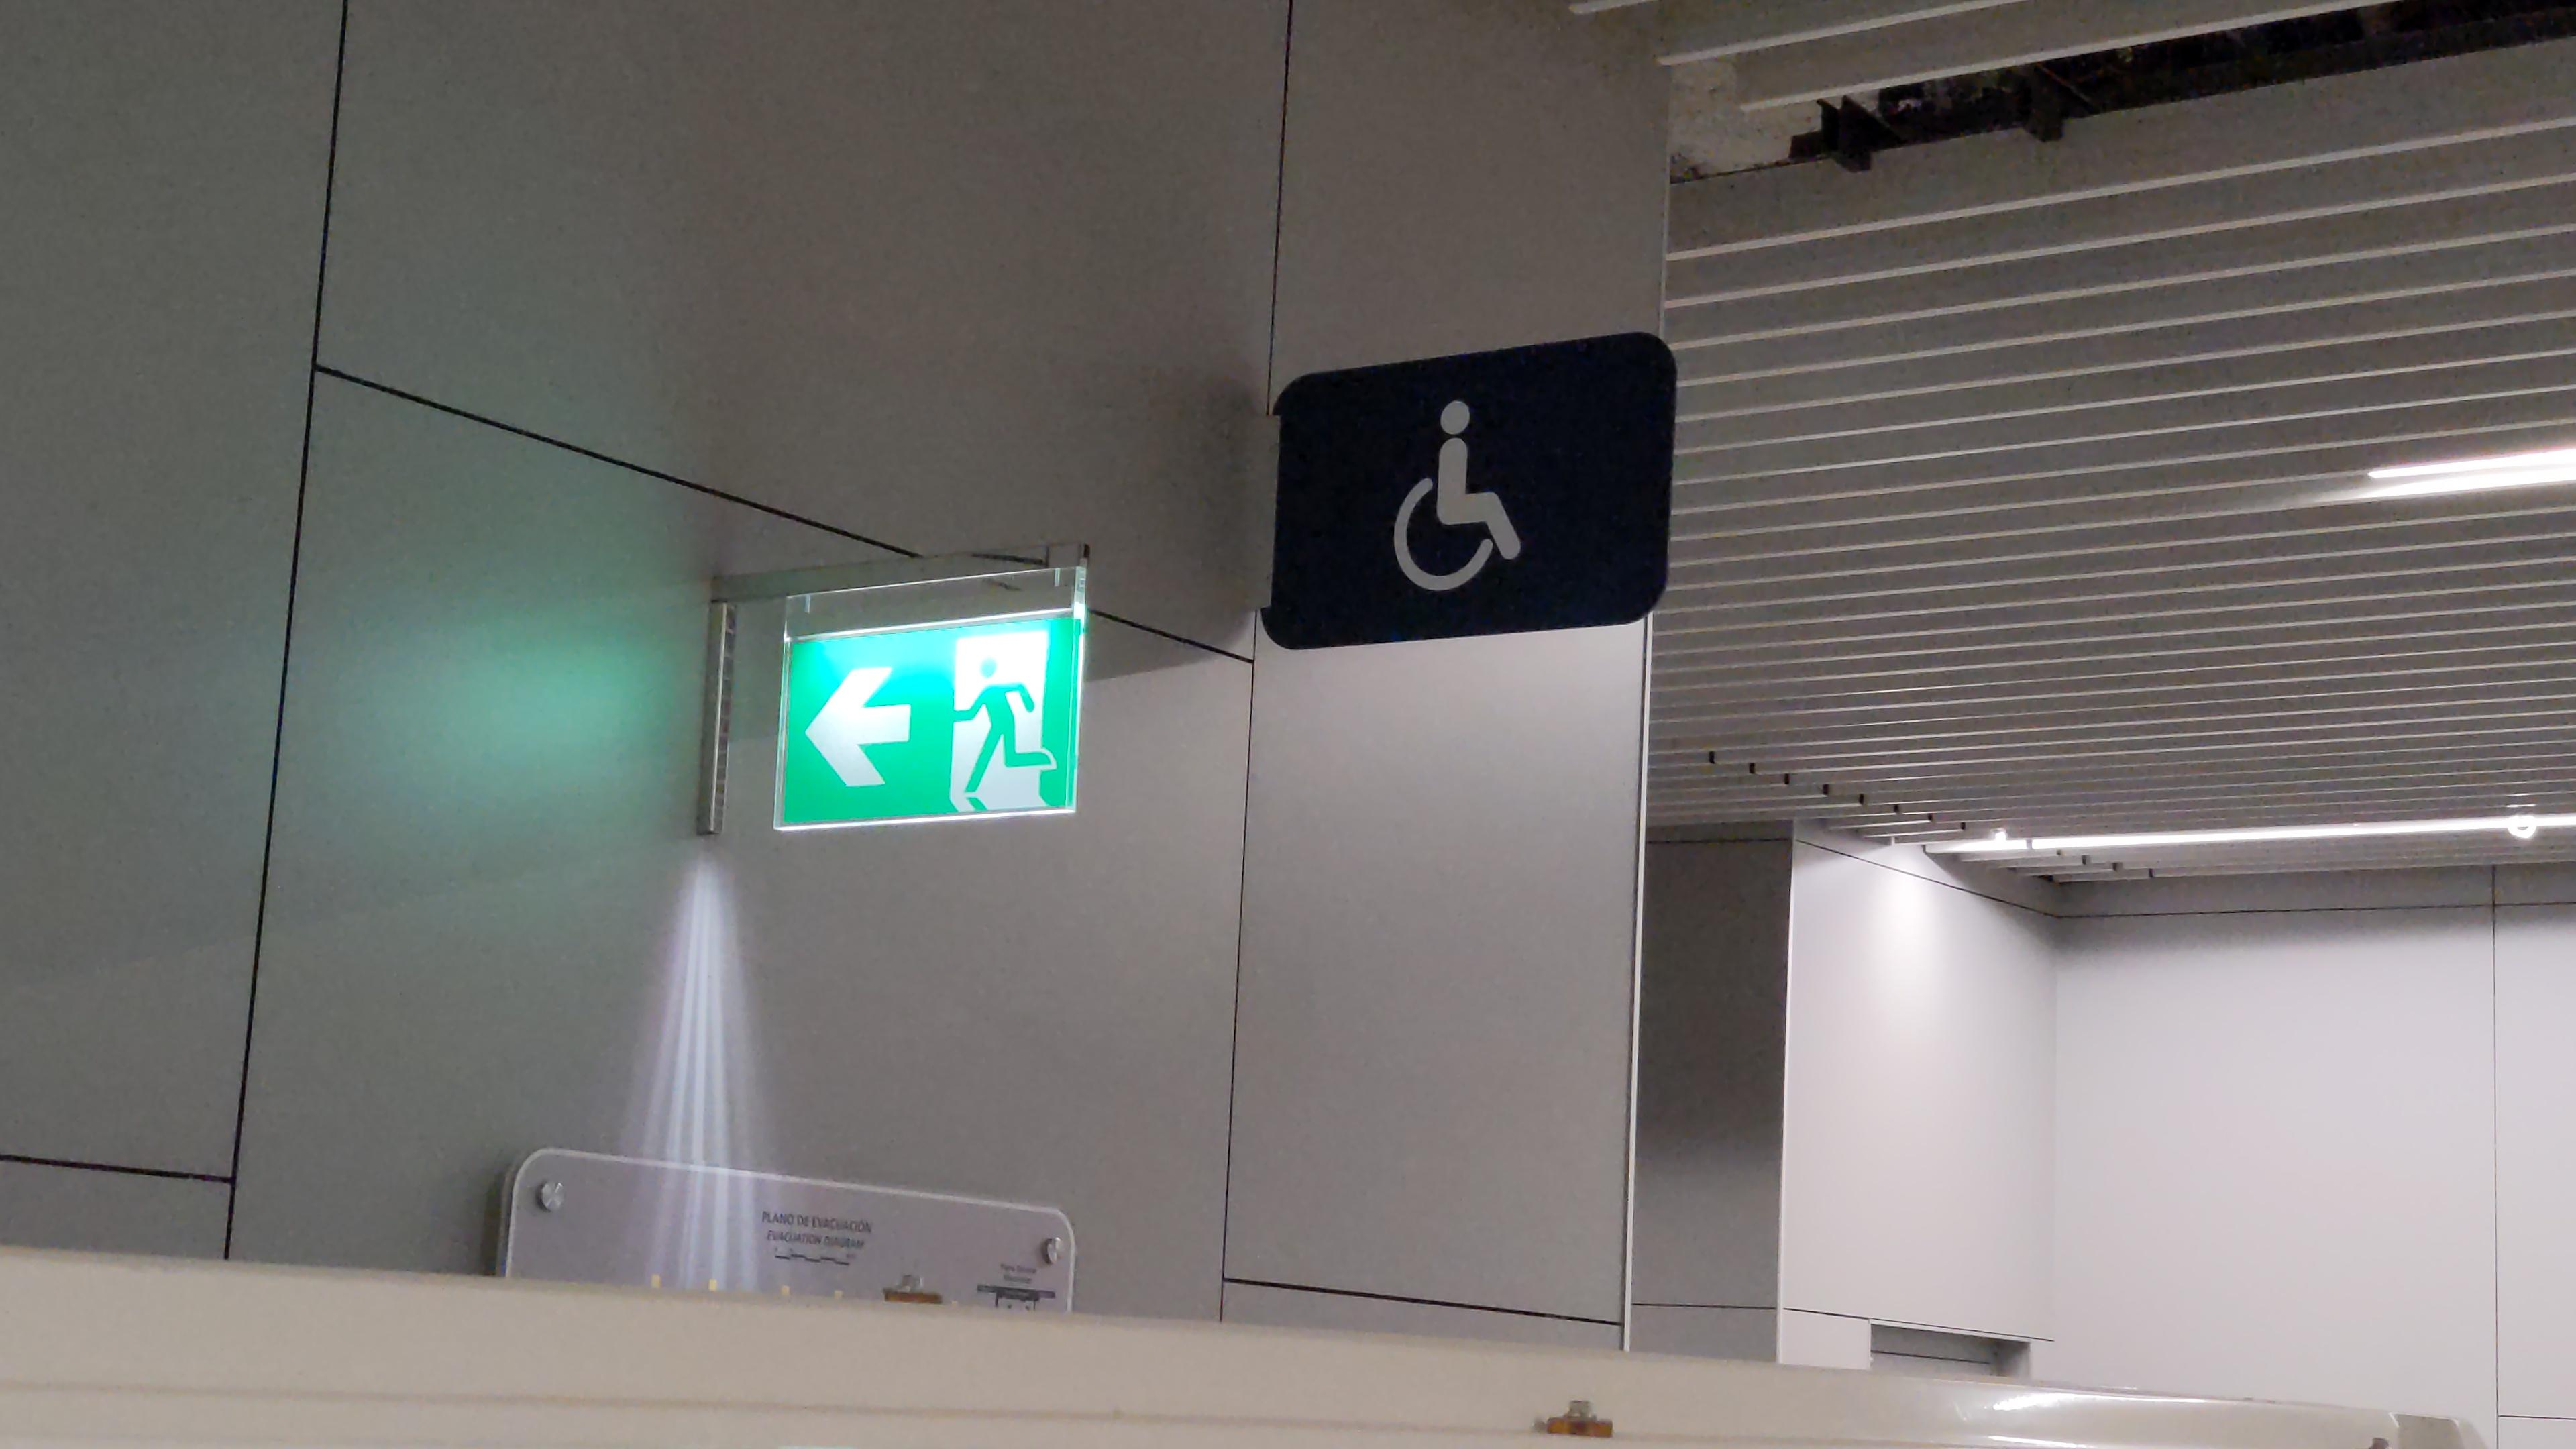emergency exit: (934, 623, 1063, 817)
emergency left arrow: (801, 653, 913, 798)
handicapped symbol: (1378, 393, 1534, 600)
